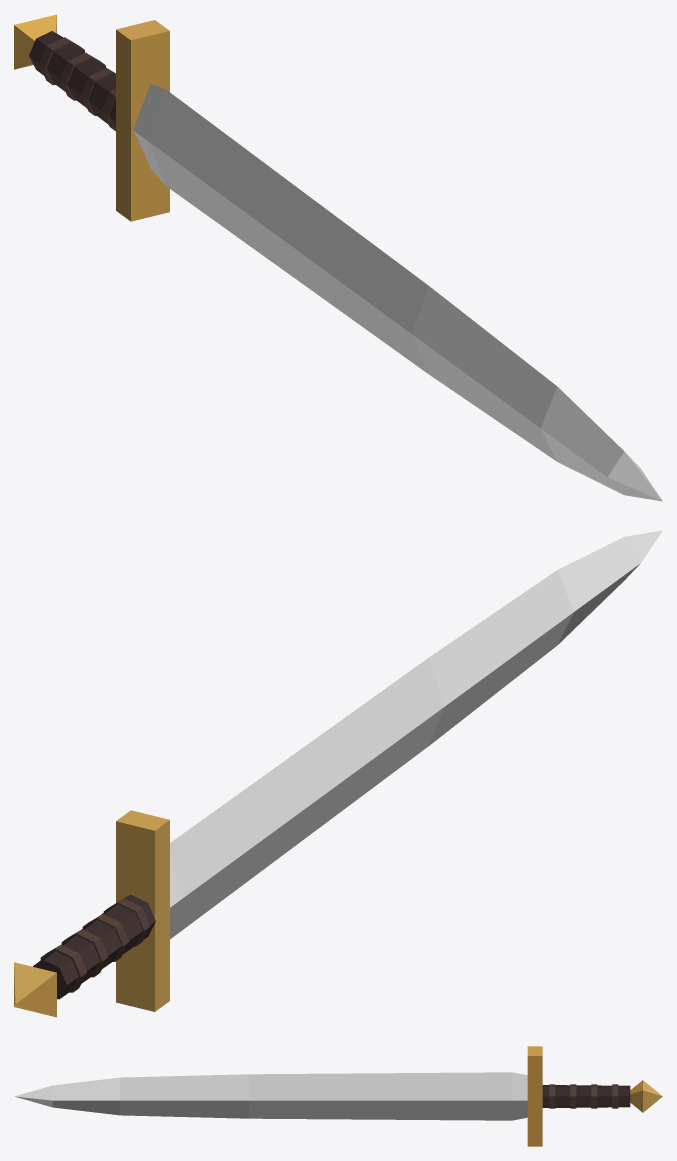
File: Blade_Aether.fbx
The picture shows the model from 3 angles, top to bottom: view 1: azimuth 30°, elevation 25°; view 2: azimuth 150°, elevation 25°; view 3: azimuth 270°, elevation 25°; orthographic projection. The views are drawn at different scales.
Parts seen in each view (by area): view 1: Blade_Aether_Glow, Blade_Aether; view 2: Blade_Aether_Glow, Blade_Aether; view 3: Blade_Aether_Glow, Blade_Aether.
Boxes of the visible parts, box(x1,y1,x2,y2) form: Blade_Aether_Glow: box(133, 84, 662, 501); Blade_Aether: box(14, 14, 169, 221); Blade_Aether_Glow: box(170, 530, 662, 939); Blade_Aether: box(14, 810, 169, 1017); Blade_Aether_Glow: box(14, 1072, 527, 1120); Blade_Aether: box(527, 1046, 662, 1146).
Bounding box in the file's own units: 0.0495 × 0.2 × 1.3.
